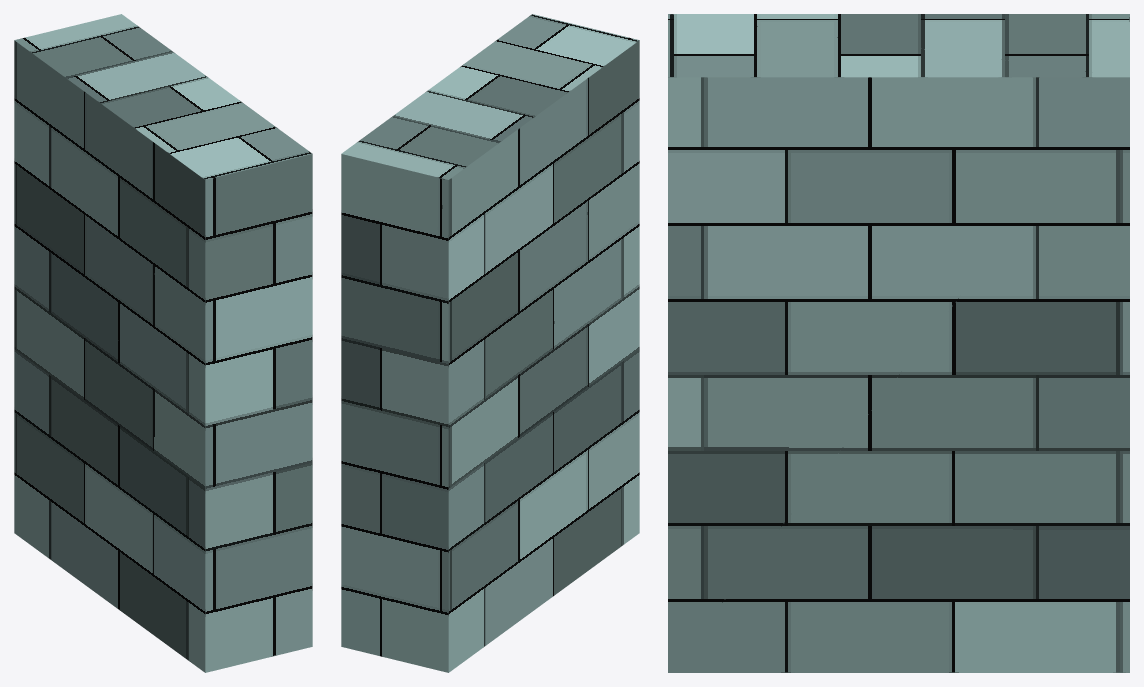
File: Wall_basic.glb
3 renders of one model, left to right at view 1: azimuth 30°, elevation 25°; view 2: azimuth 150°, elevation 25°; view 3: azimuth 270°, elevation 25°, orthographic. The views are drawn at different scales.
Parts seen in each view (by area): view 1: wall; view 2: wall; view 3: wall.
Boxes of the visible parts, x1,y1,x2,y2 form: wall: (14, 14, 312, 672); wall: (341, 14, 639, 672); wall: (668, 14, 1129, 672).
Size of the model in its own units: 1 by 4.38 by 3.08.
Materials: 1 (1 with a texture image).
